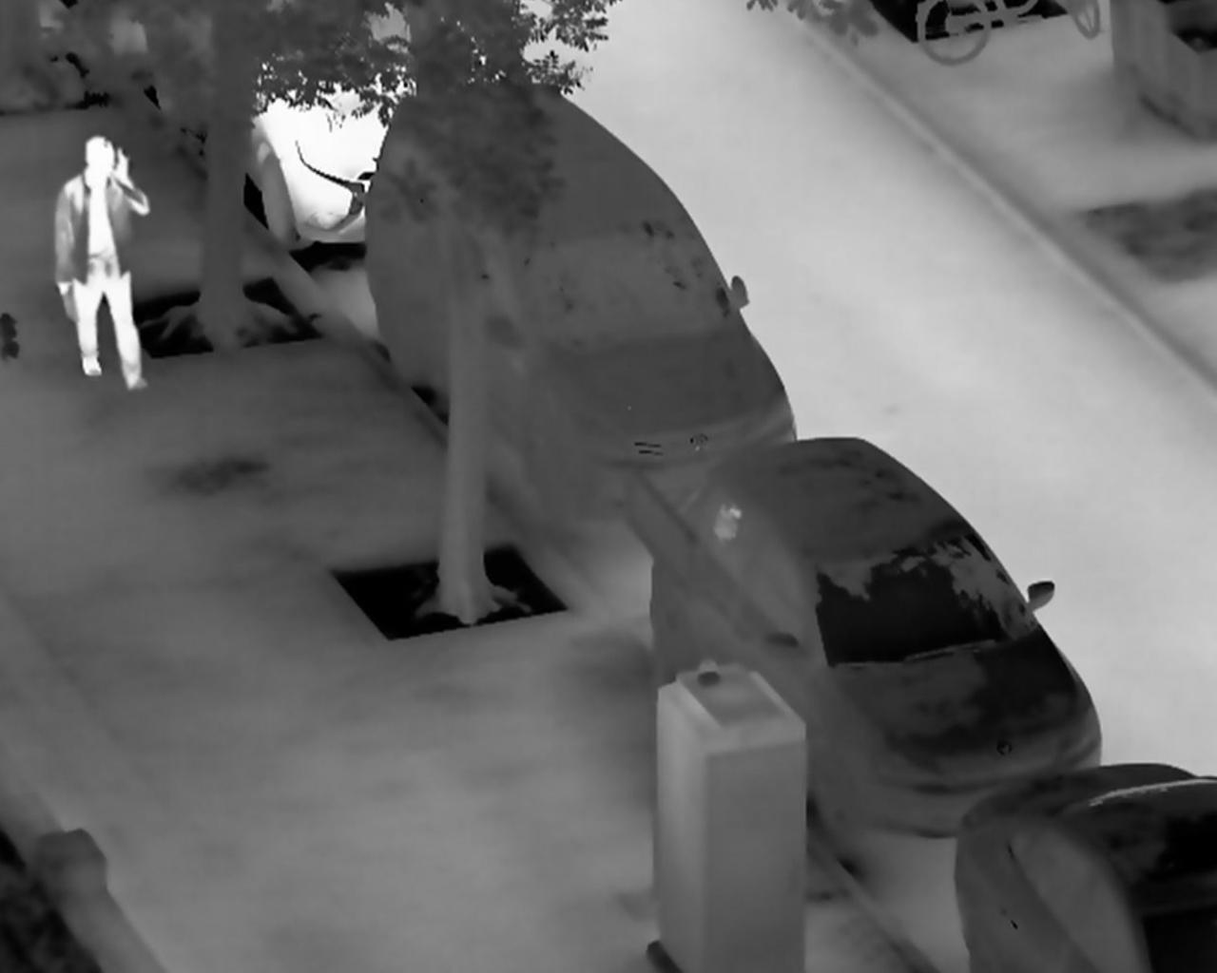person: (49, 134, 151, 391)
